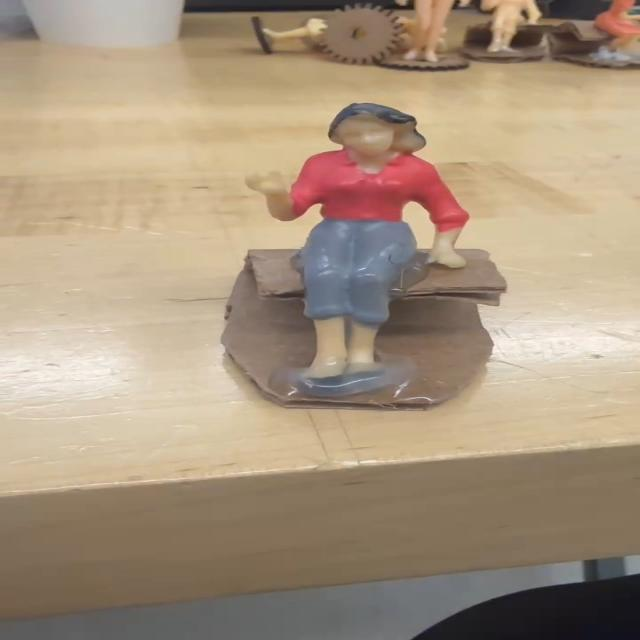Authorized: (229, 85, 494, 427)
